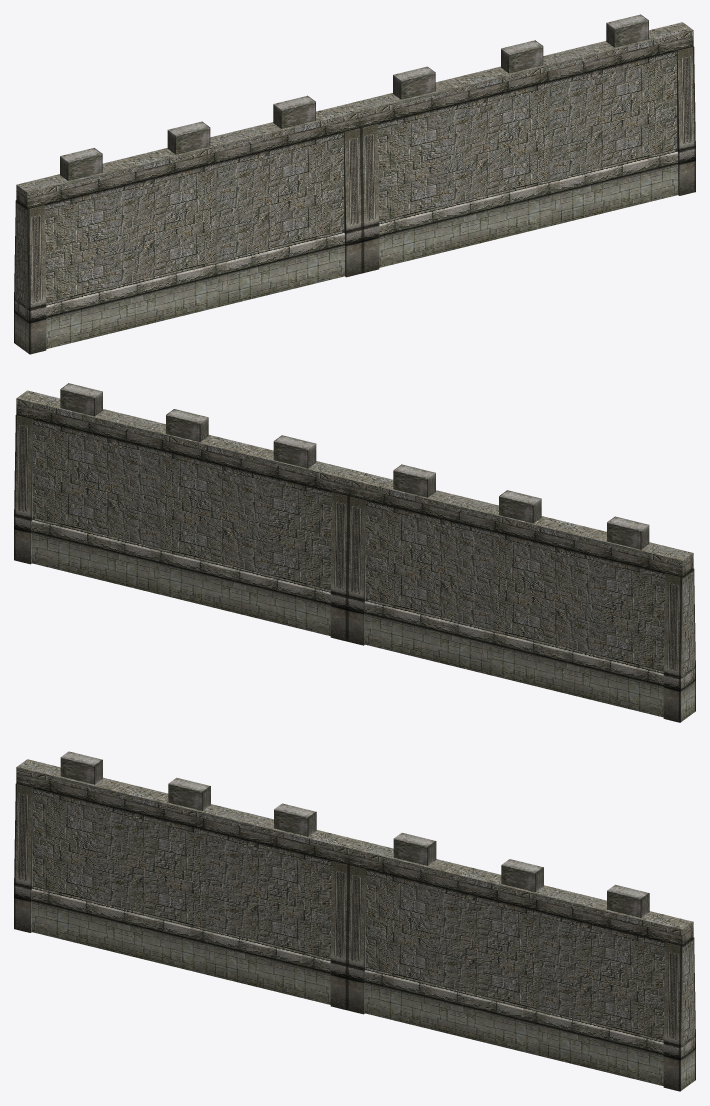
The model's file is ob-bigdam-03.glb.
3 views of the same model, one above another, from view 1: azimuth 30°, elevation 25°; view 2: azimuth 150°, elevation 25°; view 3: azimuth 330°, elevation 25° (orthographic).
Visible parts, largest first — view 1: ob-bigdam-01; view 2: ob-bigdam-01; view 3: ob-bigdam-01.
Boxes of the visible parts, left/top/right/bottom form: ob-bigdam-01: left=14, top=14, right=695, bottom=354; ob-bigdam-01: left=14, top=383, right=695, bottom=722; ob-bigdam-01: left=14, top=751, right=695, bottom=1091.
Bounding box in the file's own units: 20.01 × 5.14 × 0.8224.
1 material, 1 textured.
